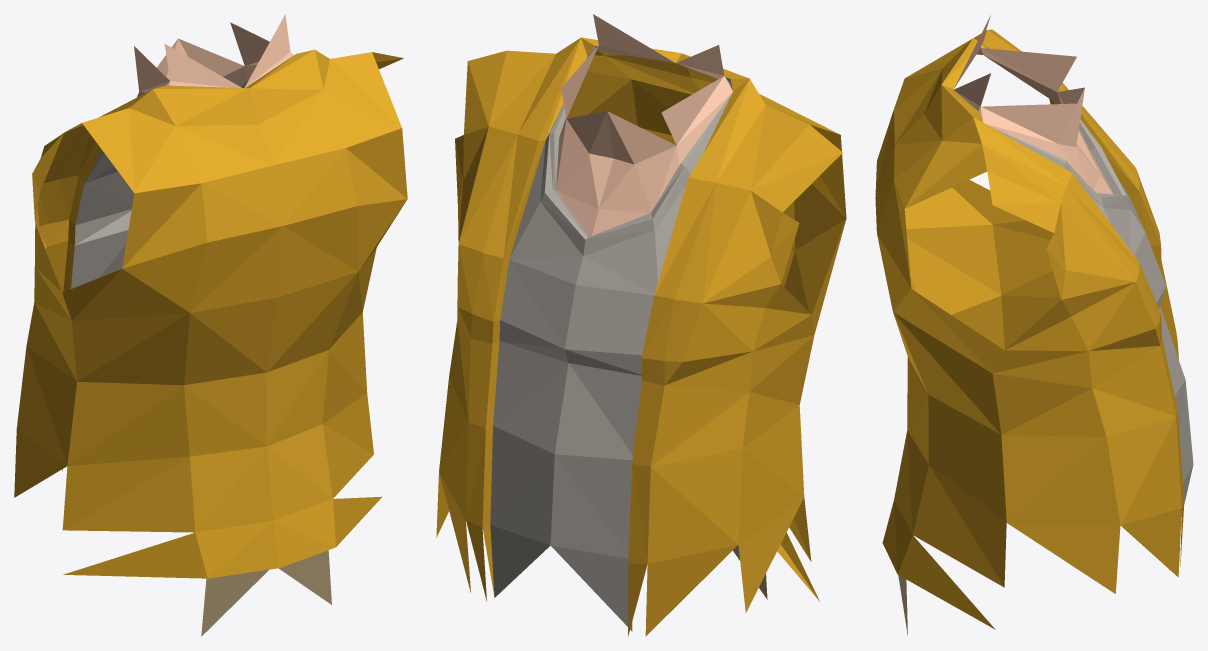
Rendered from League_Rigged_Torso.obj.
The picture shows the model from 3 angles, left to right: view 1: azimuth 30°, elevation 25°; view 2: azimuth 150°, elevation 25°; view 3: azimuth 270°, elevation 25°; orthographic projection. The views are drawn at different scales.
Size of the model in its own units: 0.4988 by 0.7439 by 0.3818.
Materials: 1 (1 with a texture image).
